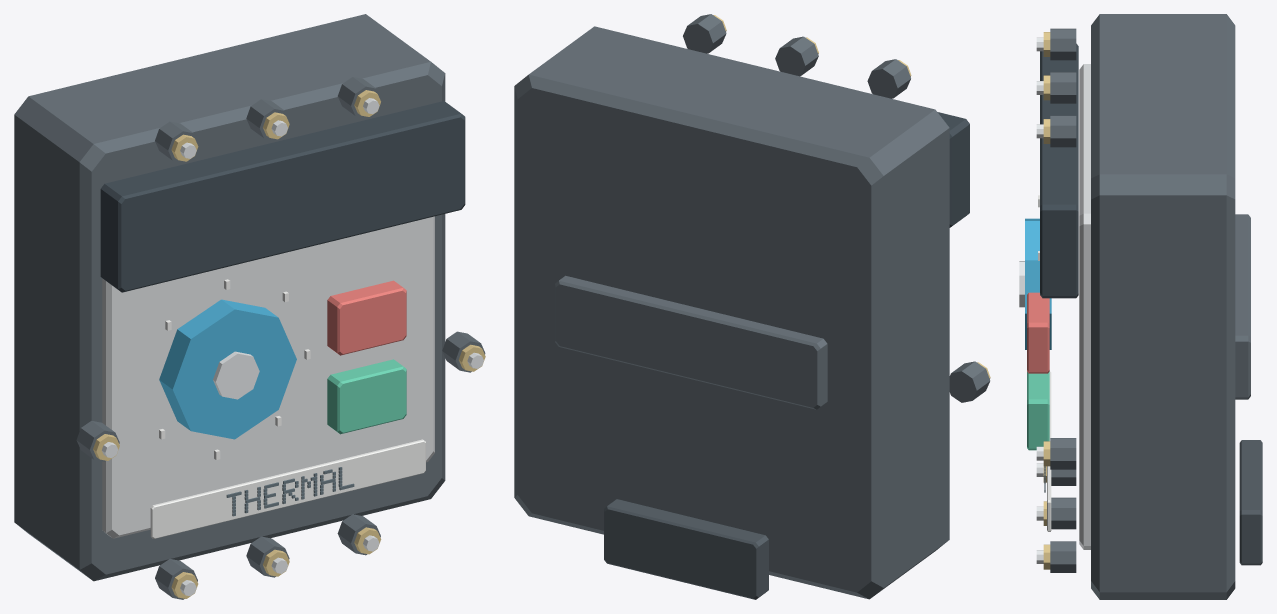
File: thermalRelay.glb
3 views of the same model, side by side, from view 1: azimuth 30°, elevation 25°; view 2: azimuth 150°, elevation 25°; view 3: azimuth 270°, elevation 25° (orthographic). The views are drawn at different scales.
Visible parts, largest first — view 1: thermalRelay-board; view 2: thermalRelay-board; view 3: thermalRelay-board.
Part boxes in pixels (box(x1,y1,x2,y2)): thermalRelay-board: box(14, 14, 485, 599); thermalRelay-board: box(514, 14, 990, 599); thermalRelay-board: box(1019, 14, 1262, 599).
Size of the model in its own units: 2.52 by 2.86 by 1.38.
